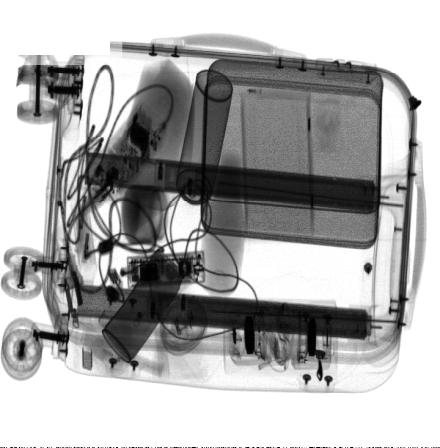Sprayer: (170, 69, 232, 227)
